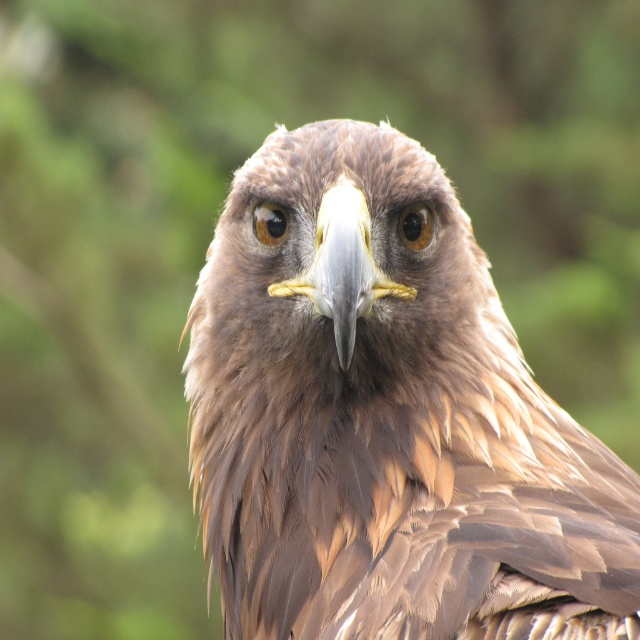Eagle: (172, 109, 640, 639)
